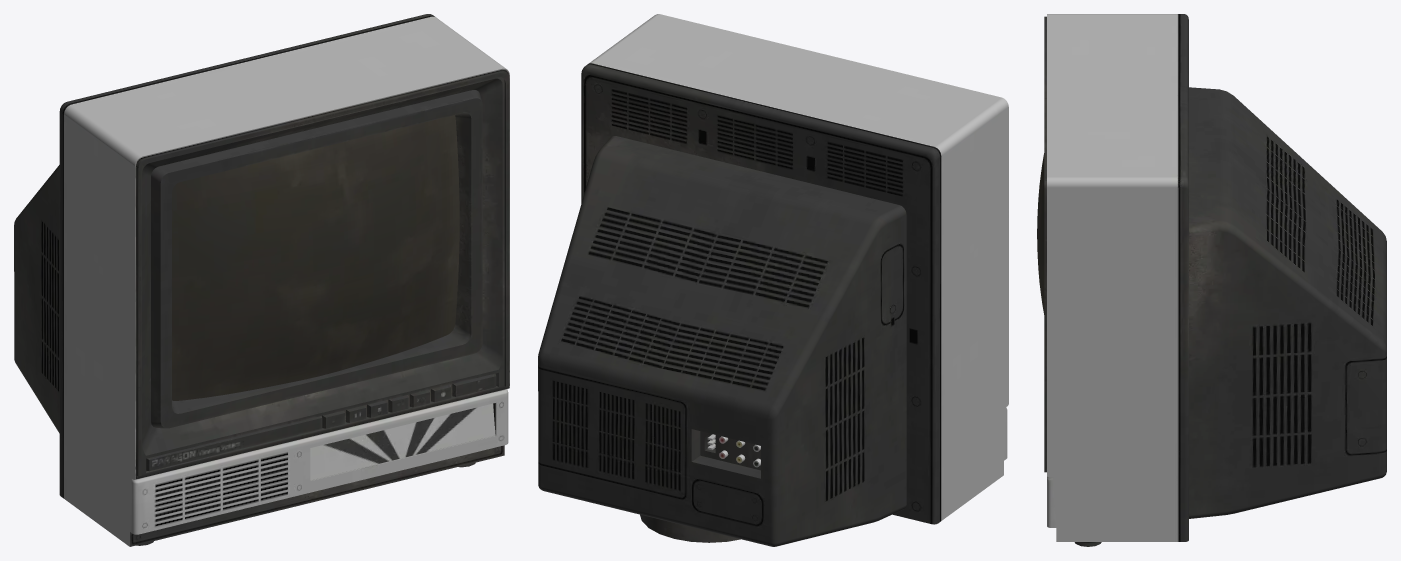
The model's file is television_02_1k.glb.
3 renders of one model, left to right at view 1: azimuth 30°, elevation 25°; view 2: azimuth 150°, elevation 25°; view 3: azimuth 270°, elevation 25°, orthographic. The views are drawn at different scales.
Visible parts, largest first — view 1: television_02; view 2: television_02; view 3: television_02.
Part boxes in pixels (x1,y1,x2,y2): television_02: [14, 14, 509, 546]; television_02: [538, 14, 1008, 546]; television_02: [1037, 14, 1386, 546].
Bounding box in the file's own units: 0.3998 × 0.4114 × 0.3502.
1 material, 1 textured.
